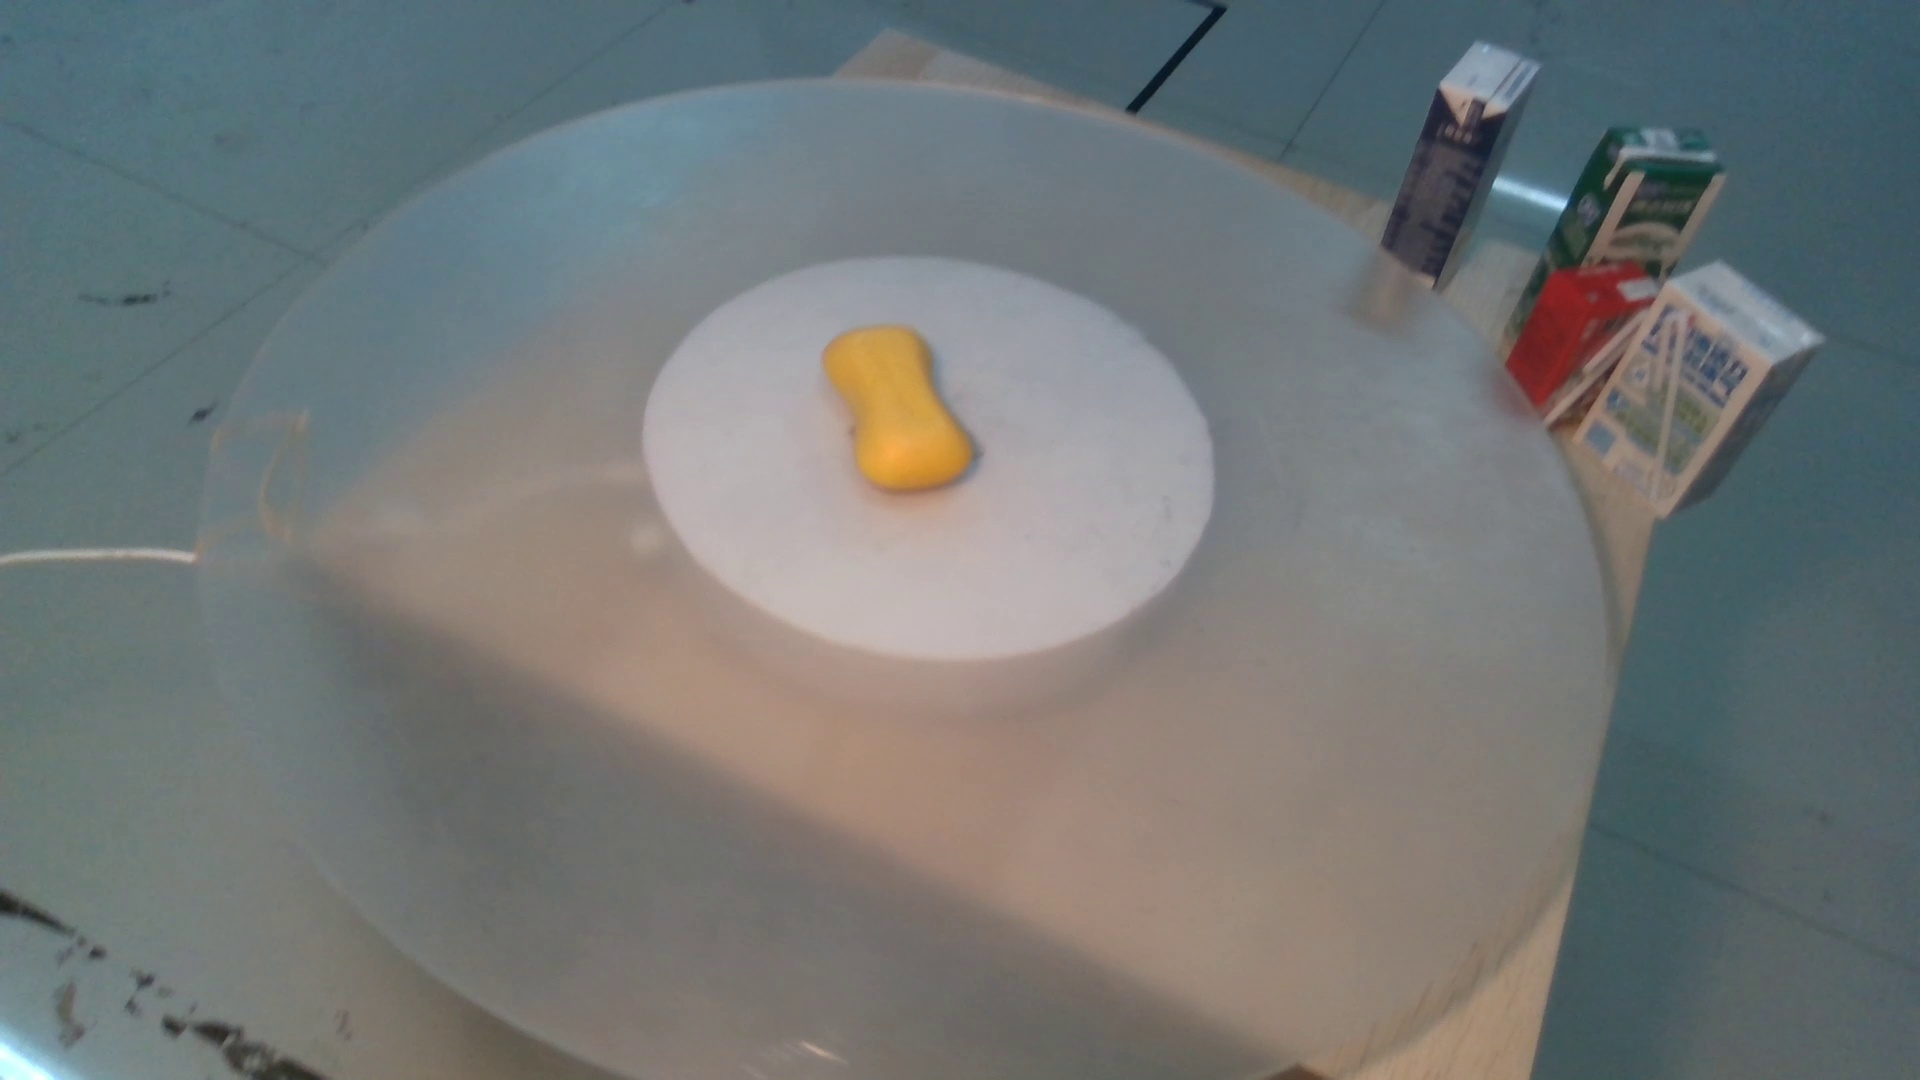CA003_1: (802, 303, 1018, 498)
